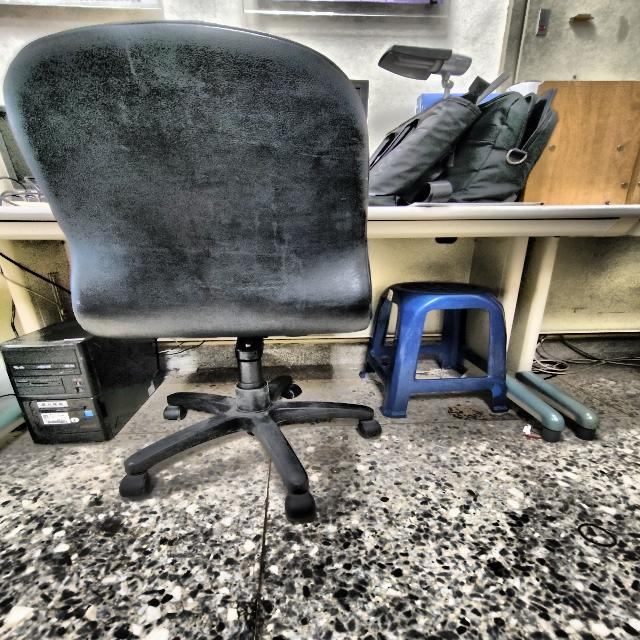cadeira: (9, 14, 388, 517), (366, 265, 522, 444)
